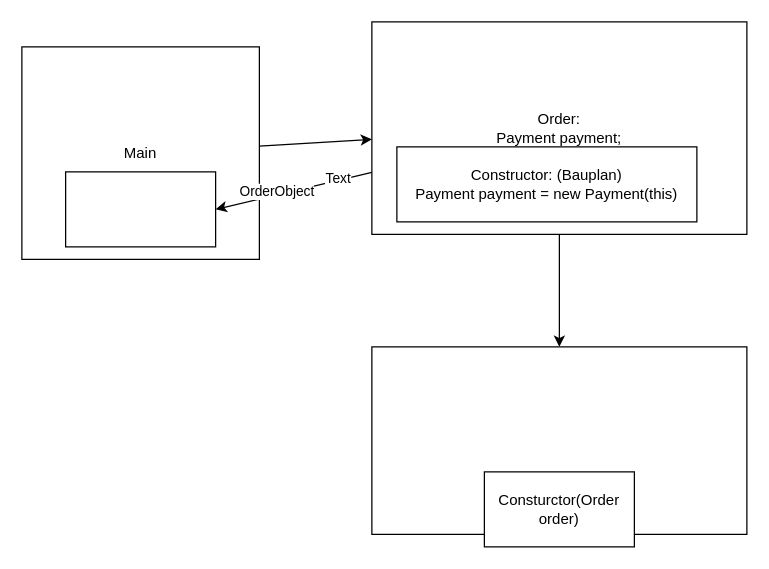
The diagram is 769 pixels wide and 569 high, and some of its shapes have lost their labels. Each missing label, with the box of its shape:
Order belalsOrder (das ist das Object): (64, 171, 216, 247)
Payment: Order order': (371, 346, 747, 534)
